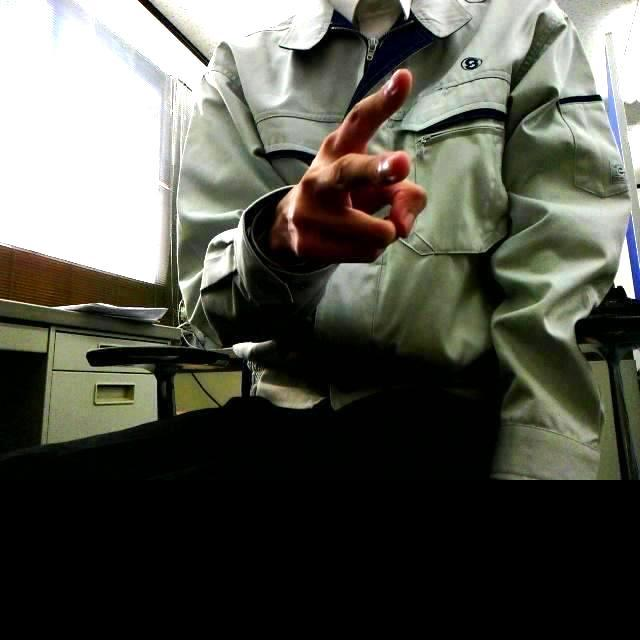tyoki: (292, 68, 430, 265)
